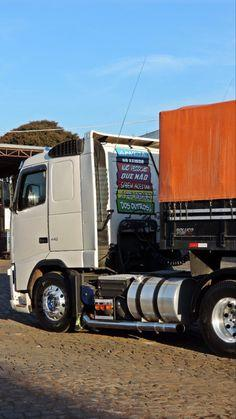vehicle: (1, 99, 236, 359)
